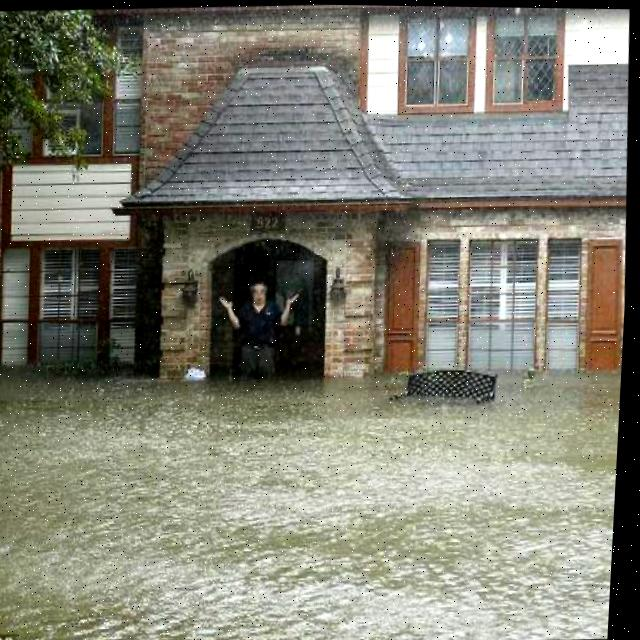civilian: (195, 254, 323, 402)
